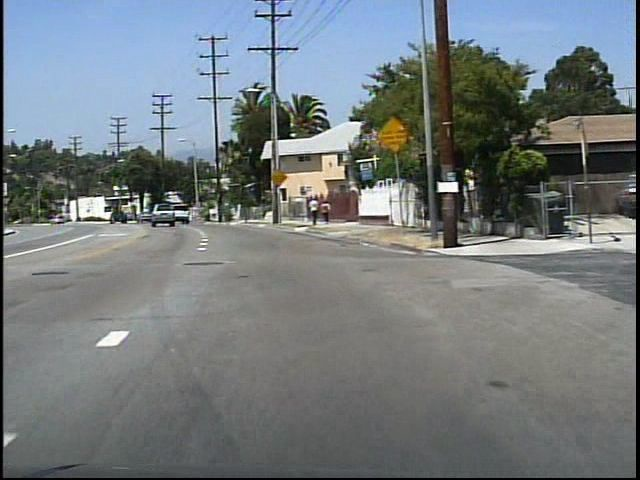person: (306, 196, 320, 227), (319, 199, 332, 227)
